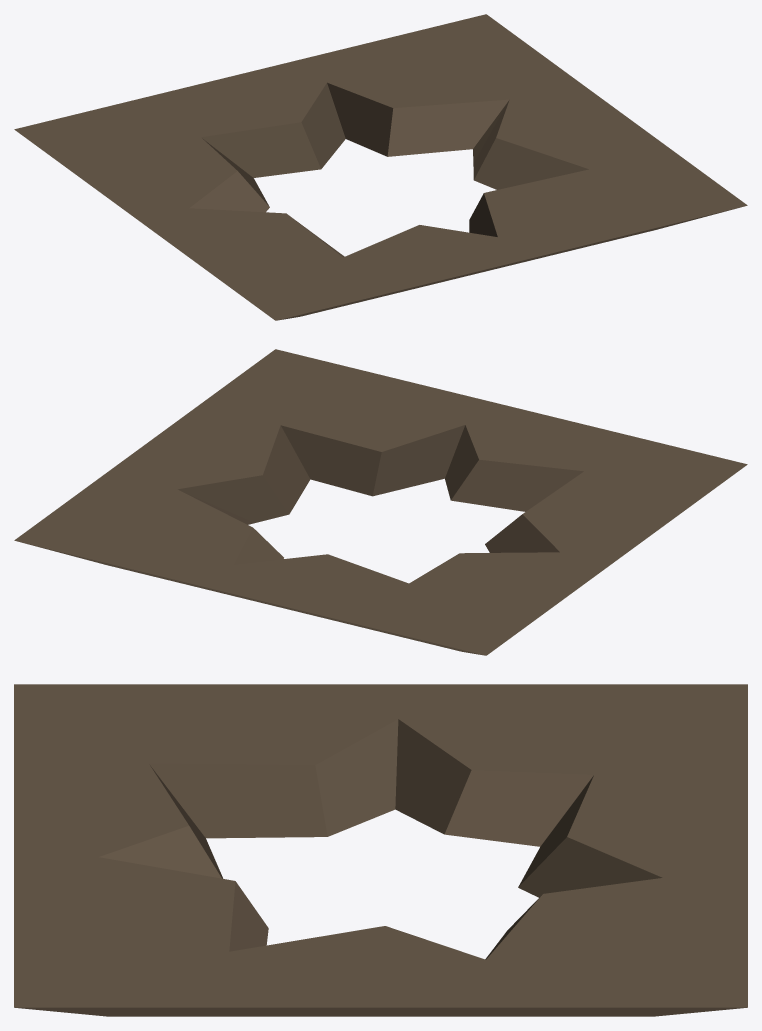
Rendered from Hole_Open.fbx.
The picture shows the model from 3 angles, top to bottom: view 1: azimuth 30°, elevation 25°; view 2: azimuth 150°, elevation 25°; view 3: azimuth 270°, elevation 25°; orthographic projection. The views are drawn at different scales.
Visible parts, largest first — view 1: Hole_Open; view 2: Hole_Open; view 3: Hole_Open.
Part boxes in pixels (x1,y1,x2,y2): Hole_Open: [14, 14, 747, 320]; Hole_Open: [14, 349, 747, 655]; Hole_Open: [14, 684, 747, 1016].
Size of the model in its own units: 133 by 9.4 by 127.
